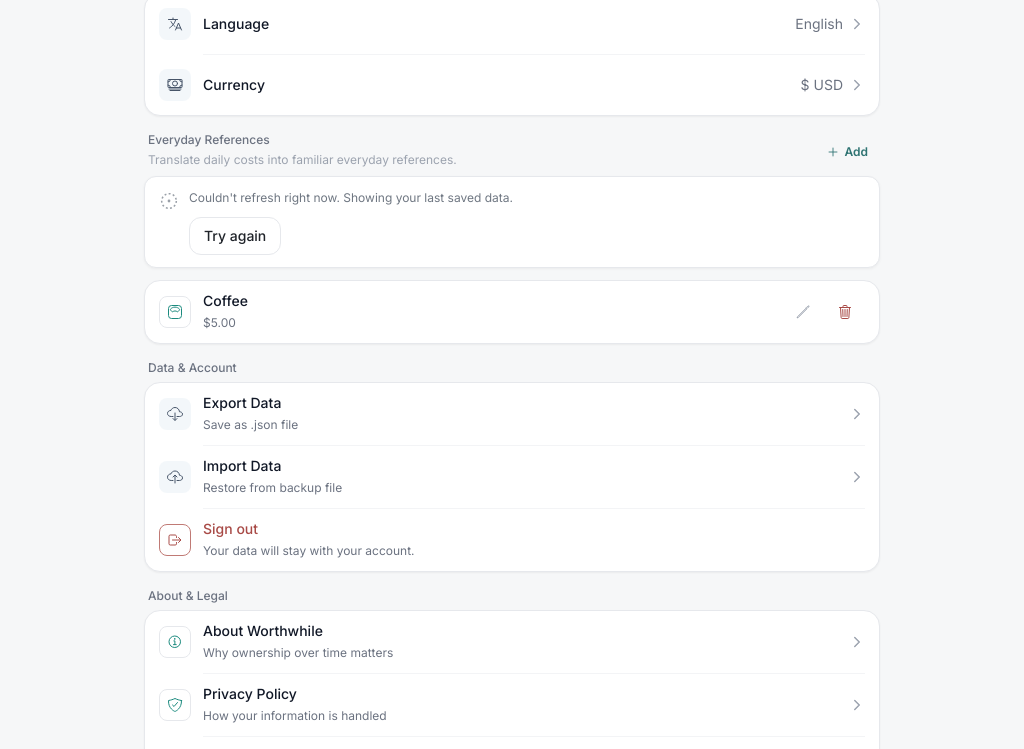
Test: Settings component › keeps cached value equivalents visible and allows adding when refresh fails
The width and height of the screenshot is (1024, 749).
(page scrolled)
Expected: the text "Coffee" is shown, [203,292,248,309]
Expected: the message shows "Couldn't refresh right now. Showing your last saved data.", [189,190,513,205]
Step 1. Click the button with aria-label "Add Reference" → x=847, y=152, box [818,134,876,170]
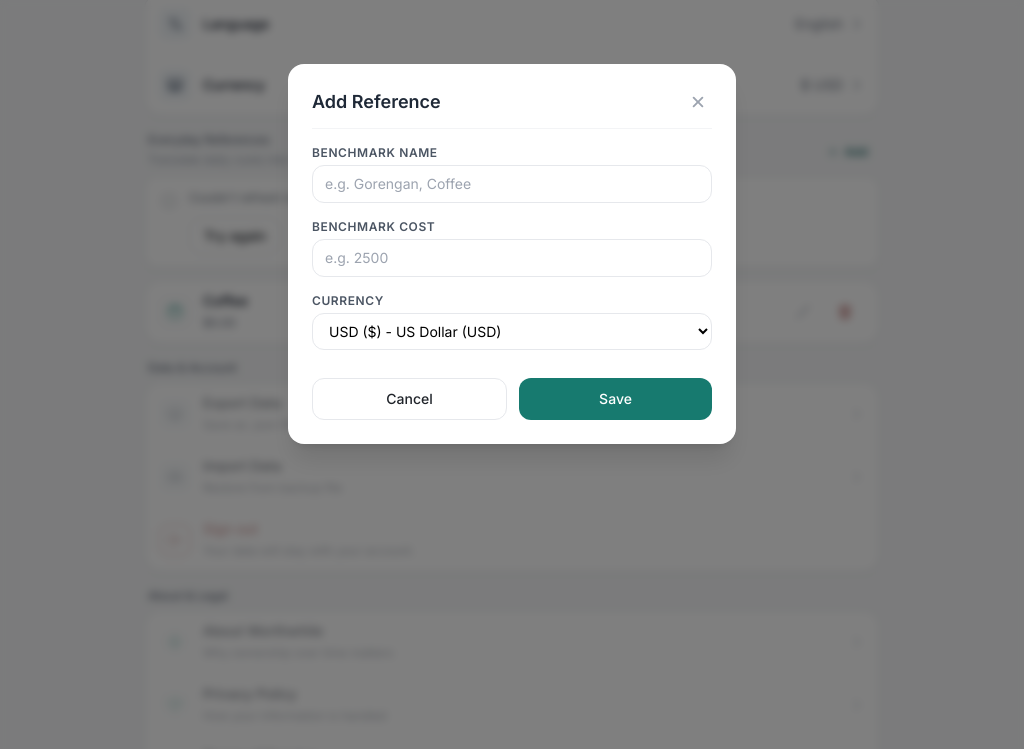
Now the heading "Add Reference" is shown, box [312,88,441,116]
